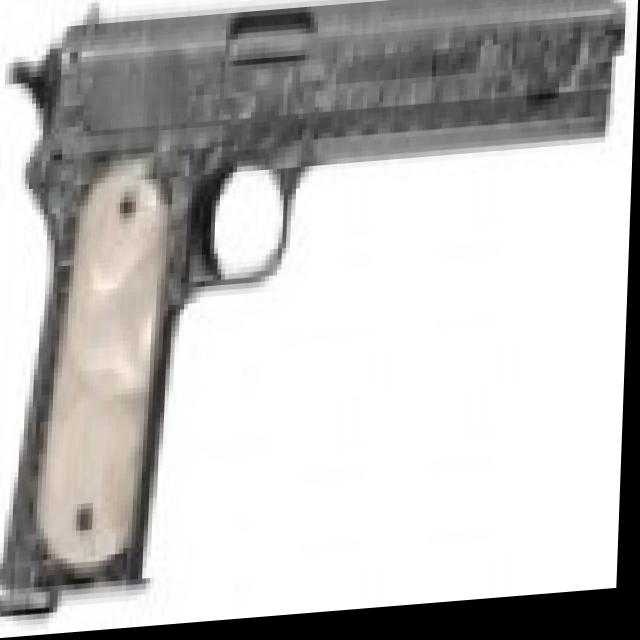handgun: (0, 0, 624, 602)
